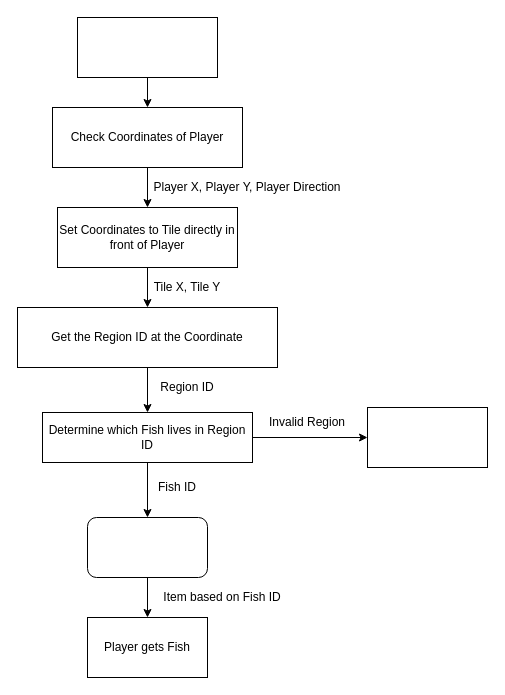
Image size: 505x695. Some labels were removed from this diagram. The centre of each missing label's shape, as x and y in pixels:
"Fish Minigame" goes at (x=147, y=547).
"Player denied" goes at (x=427, y=437).
"Use Fishing Rod Item" goes at (x=147, y=47).
